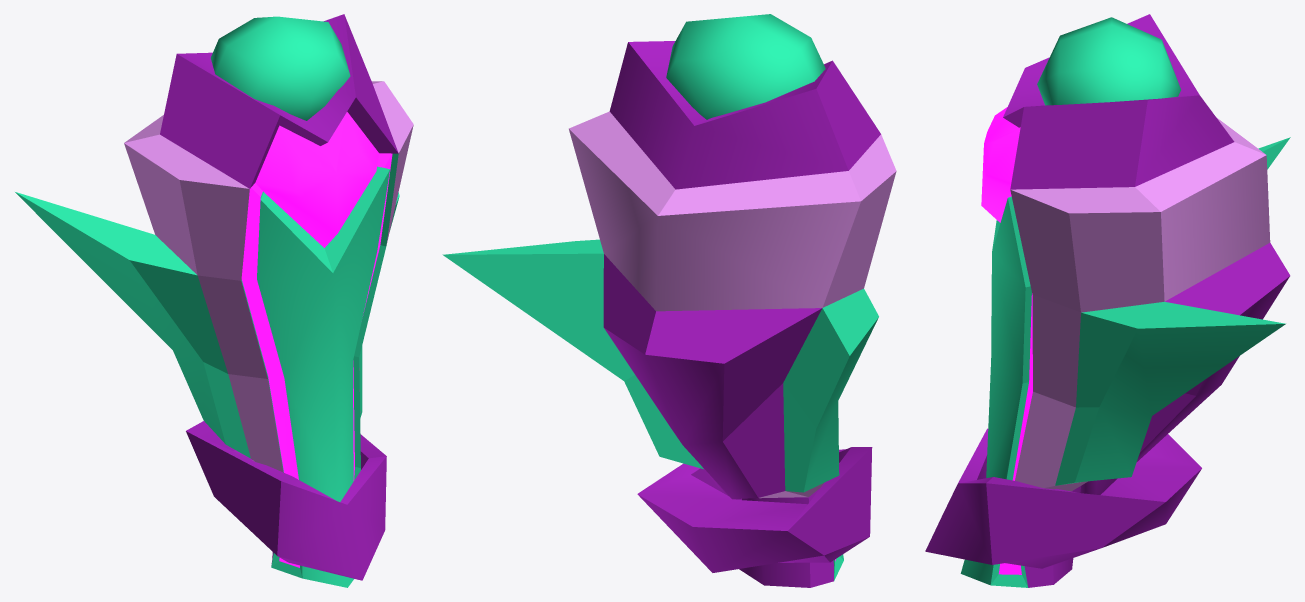
File: heart_leg.glb
3 views of the same model, side by side, from view 1: azimuth 30°, elevation 25°; view 2: azimuth 150°, elevation 25°; view 3: azimuth 270°, elevation 25° (orthographic). The views are drawn at different scales.
Visible parts, largest first — view 1: Normal_HeartCalf; view 2: Normal_HeartCalf; view 3: Normal_HeartCalf.
Boxes of the visible parts, x1,y1,x2,y2 form: Normal_HeartCalf: [15, 14, 413, 587]; Normal_HeartCalf: [442, 14, 896, 587]; Normal_HeartCalf: [925, 14, 1290, 587].
Bounding box in the file's own units: 0.3766 × 0.518 × 0.3125.
